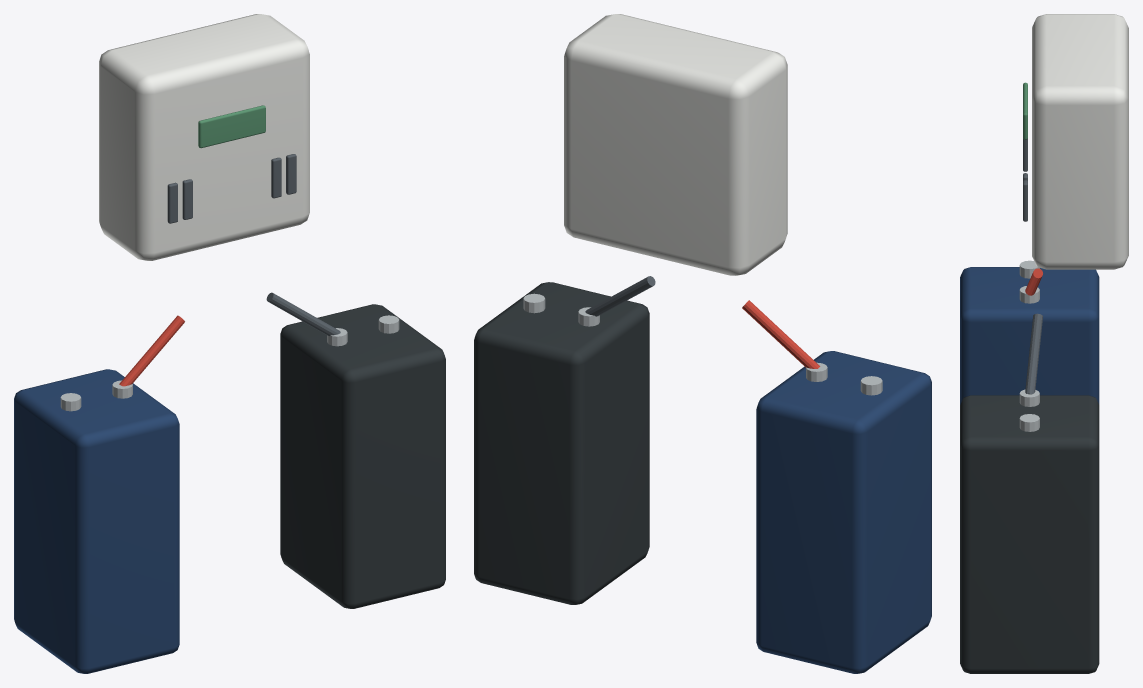
File: inverter_two_batteries.glb
3 renders of one model, left to right at view 1: azimuth 30°, elevation 25°; view 2: azimuth 150°, elevation 25°; view 3: azimuth 270°, elevation 25°, orthographic. The views are drawn at different scales.
Visible parts, largest first — view 1: deep-cycle battery, deep-cycle battery.001, inverter, display, red insulated cable, black insulated cable; view 2: inverter, deep-cycle battery, deep-cycle battery.001, red insulated cable, black insulated cable; view 3: deep-cycle battery.001, inverter, deep-cycle battery, black insulated cable, battery terminal.003, battery terminal.002, red insulated cable, display.
Part boxes in pixels (x1=…): deep-cycle battery: x1=14, y1=369, x2=179, y2=673; deep-cycle battery.001: x1=280, y1=304, x2=445, y2=608; inverter: x1=99, y1=14, x2=309, y2=260; display: x1=198, y1=105, x2=265, y2=148; red insulated cable: x1=119, y1=315, x2=184, y2=386; black insulated cable: x1=266, y1=292, x2=340, y2=336; inverter: x1=564, y1=14, x2=787, y2=275; deep-cycle battery: x1=756, y1=351, x2=931, y2=673; deep-cycle battery.001: x1=474, y1=282, x2=649, y2=604; red insulated cable: x1=742, y1=300, x2=820, y2=368; black insulated cable: x1=585, y1=276, x2=655, y2=316; deep-cycle battery.001: x1=960, y1=395, x2=1099, y2=673; inverter: x1=1032, y1=14, x2=1128, y2=269; deep-cycle battery: x1=960, y1=267, x2=1099, y2=404; black insulated cable: x1=1025, y1=313, x2=1042, y2=394; battery terminal.003: x1=1019, y1=414, x2=1039, y2=431; battery terminal.002: x1=1019, y1=389, x2=1039, y2=406; red insulated cable: x1=1025, y1=268, x2=1042, y2=295; display: x1=1023, y1=82, x2=1027, y2=139.
Size of the model in its own units: 1 by 1.41 by 0.4.
